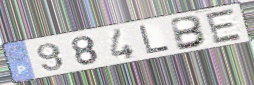4: (110, 27, 137, 60)
8: (70, 35, 101, 66)
9: (35, 42, 65, 72)
B: (169, 14, 209, 52)
E: (204, 7, 245, 46)
L: (138, 24, 172, 56)
